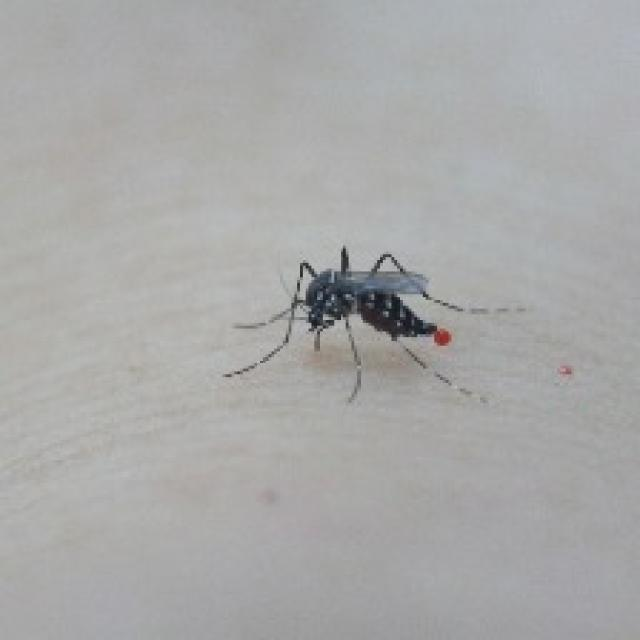aedes: (220, 240, 526, 403)
